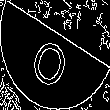O_NE: (31, 23, 79, 87)
